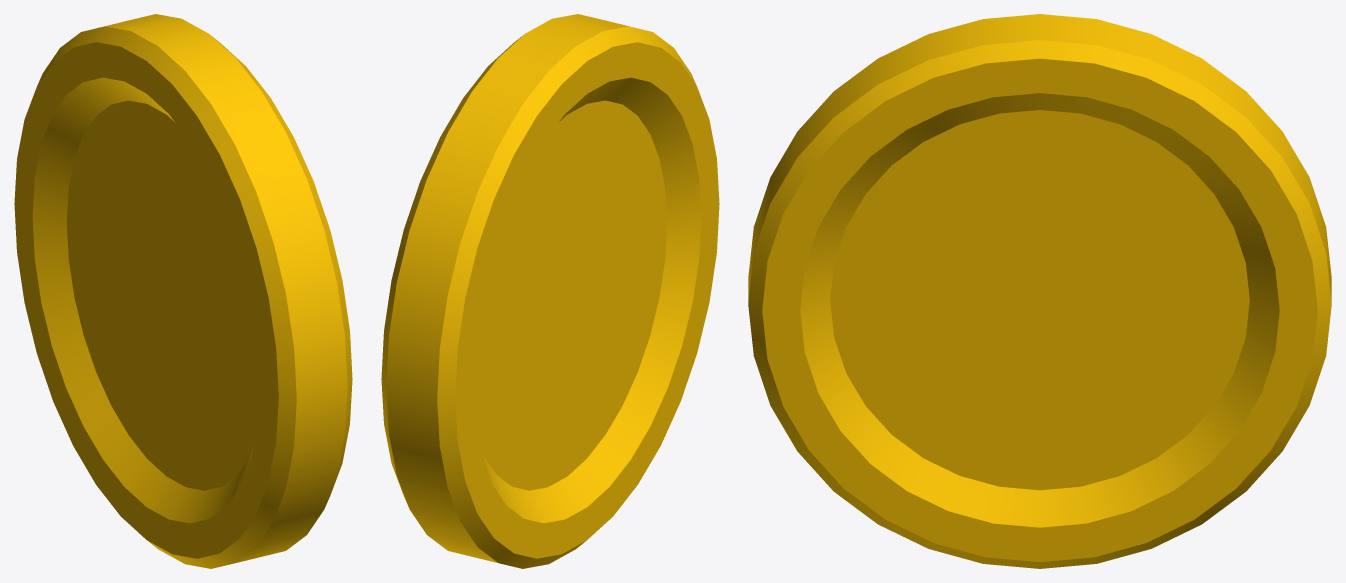
File: coin.glb
3 views of the same model, side by side, from view 1: azimuth 30°, elevation 25°; view 2: azimuth 150°, elevation 25°; view 3: azimuth 270°, elevation 25° (orthographic). The views are drawn at different scales.
Parts seen in each view (by area): view 1: Coin; view 2: Coin; view 3: Coin.
Part boxes in pixels (left/top/right/bottom): Coin: left=14, top=14, right=352, bottom=568; Coin: left=381, top=14, right=719, bottom=568; Coin: left=748, top=14, right=1331, bottom=568.
Bounding box in the file's own units: 0.3069 × 2 × 2.
